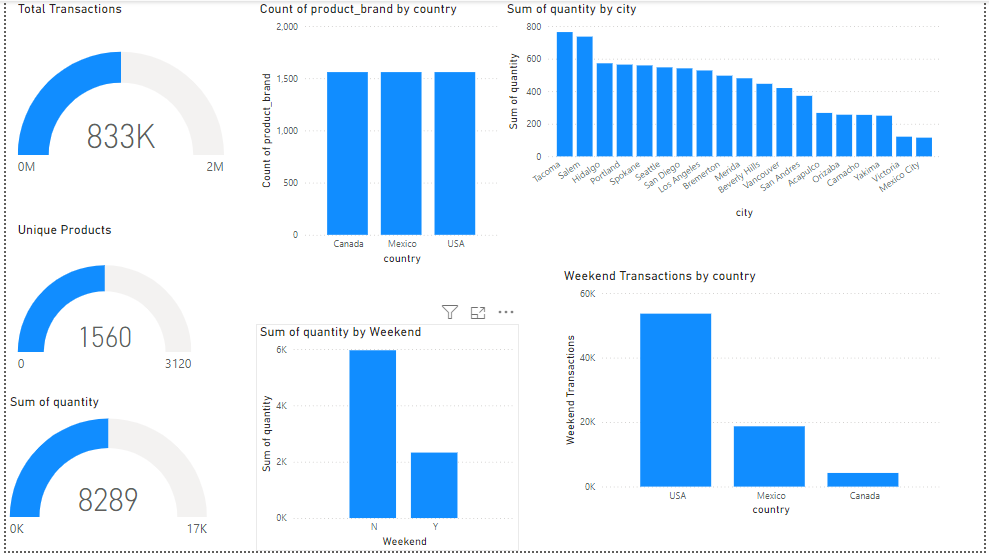

This screenshot's page, from the dashboard's own definition file:
{"tool":"powerbi","page":{"name":"Page 3","canvas":[1280,720],"ordinal":2},"visuals":[{"type":"gauge","fields":{"Y":["Transaction_Data.Total Transactions"]},"box":[10,0,280,280],"z":0},{"type":"gauge","fields":{"Y":["Products.Unique Products"]},"box":[10.7,289.4,237.3,238.9],"z":1000},{"type":"columnChart","fields":{"Category":["Calendar.Weekend"],"Y":["Sum(Return_Data.quantity)"]},"box":[327.7,422.6,344.5,297],"z":2000},{"type":"columnChart","fields":{"Category":["Stores.country"],"Y":["CountNonNull(Products.product_brand)"]},"box":[327.7,0,323.1,349.1],"z":3000},{"type":"gauge","fields":{"Y":["Sum(Return_Data.quantity)"]},"box":[0,514.4,267.9,205.2],"z":4000},{"type":"columnChart","fields":{"Y":["Sum(Return_Data.quantity)"],"Category":["Stores.city"]},"box":[650.7,0,577.2,289.4],"z":5000},{"type":"columnChart","fields":{"Y":["Transaction_Data.Weekend Transactions"],"Category":["Customers.country"]},"box":[725.7,349.1,502.2,329.2],"z":6000}]}

Visuals, with their boxes in screenshot pixels (x1, y1, x2, y2), scaled from the page's 1280x720 canvas onto the 989x556 screenshot:
gauge - Transaction_Data.Total Transactions: [left=8, top=0, right=224, bottom=216]
gauge - Products.Unique Products: [left=8, top=223, right=192, bottom=408]
columnChart - Calendar.Weekend x Sum(Return_Data.quantity): [left=253, top=326, right=519, bottom=555]
columnChart - Stores.country x CountNonNull(Products.product_brand): [left=253, top=0, right=503, bottom=270]
gauge - Sum(Return_Data.quantity): [left=0, top=397, right=207, bottom=555]
columnChart - Sum(Return_Data.quantity) x Stores.city: [left=503, top=0, right=949, bottom=223]
columnChart - Transaction_Data.Weekend Transactions x Customers.country: [left=561, top=270, right=949, bottom=524]
